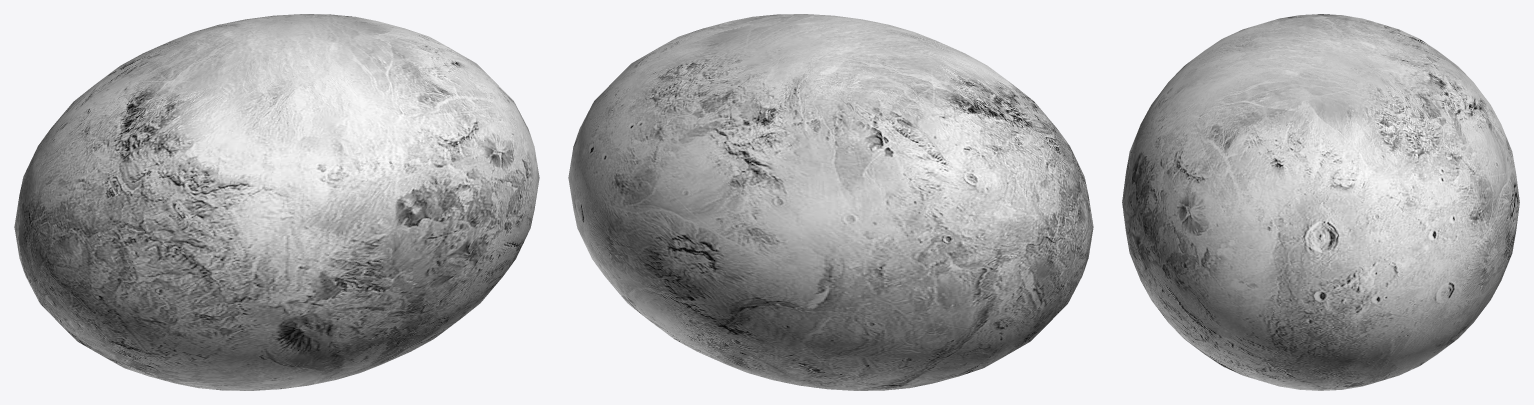
The model's file is haumea.gltf.
3 renders of one model, left to right at view 1: azimuth 30°, elevation 25°; view 2: azimuth 150°, elevation 25°; view 3: azimuth 270°, elevation 25°, orthographic. The views are drawn at different scales.
Visible parts, largest first — view 1: Haumea.001; view 2: Haumea.001; view 3: Haumea.001.
Boxes of the visible parts, <box> form: Haumea.001: <box>14,14,539,390</box>; Haumea.001: <box>568,14,1093,390</box>; Haumea.001: <box>1122,14,1519,390</box>.
Size of the model in its own units: 1978 by 1273 by 1503.
1 material, 1 textured.
